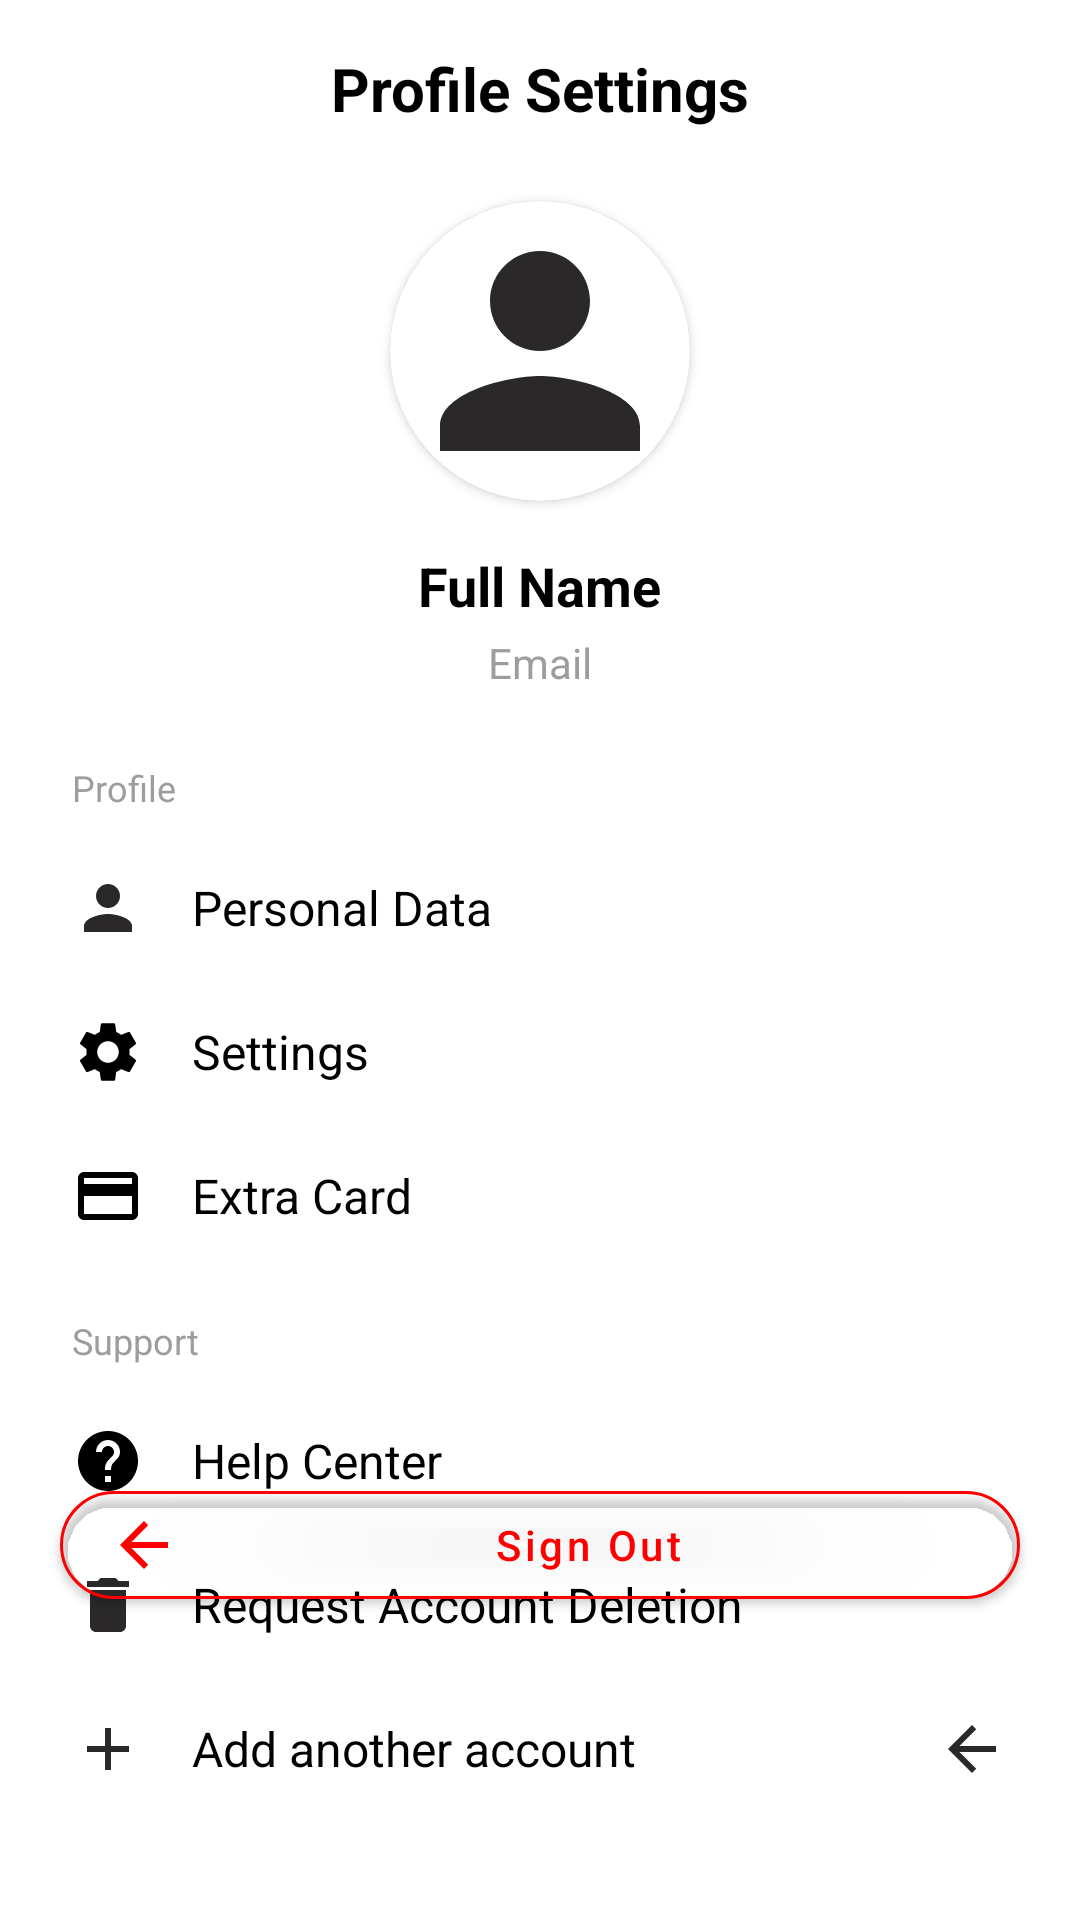

Point at icon controls on the screen. Image size 1080 × 1920, points as (x=x, y=y).
arrow back: (x=972, y=1749)
help circle: (x=111, y=1464)
